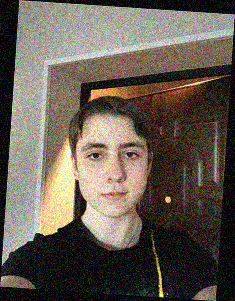without_mask: (74, 137, 147, 219)
